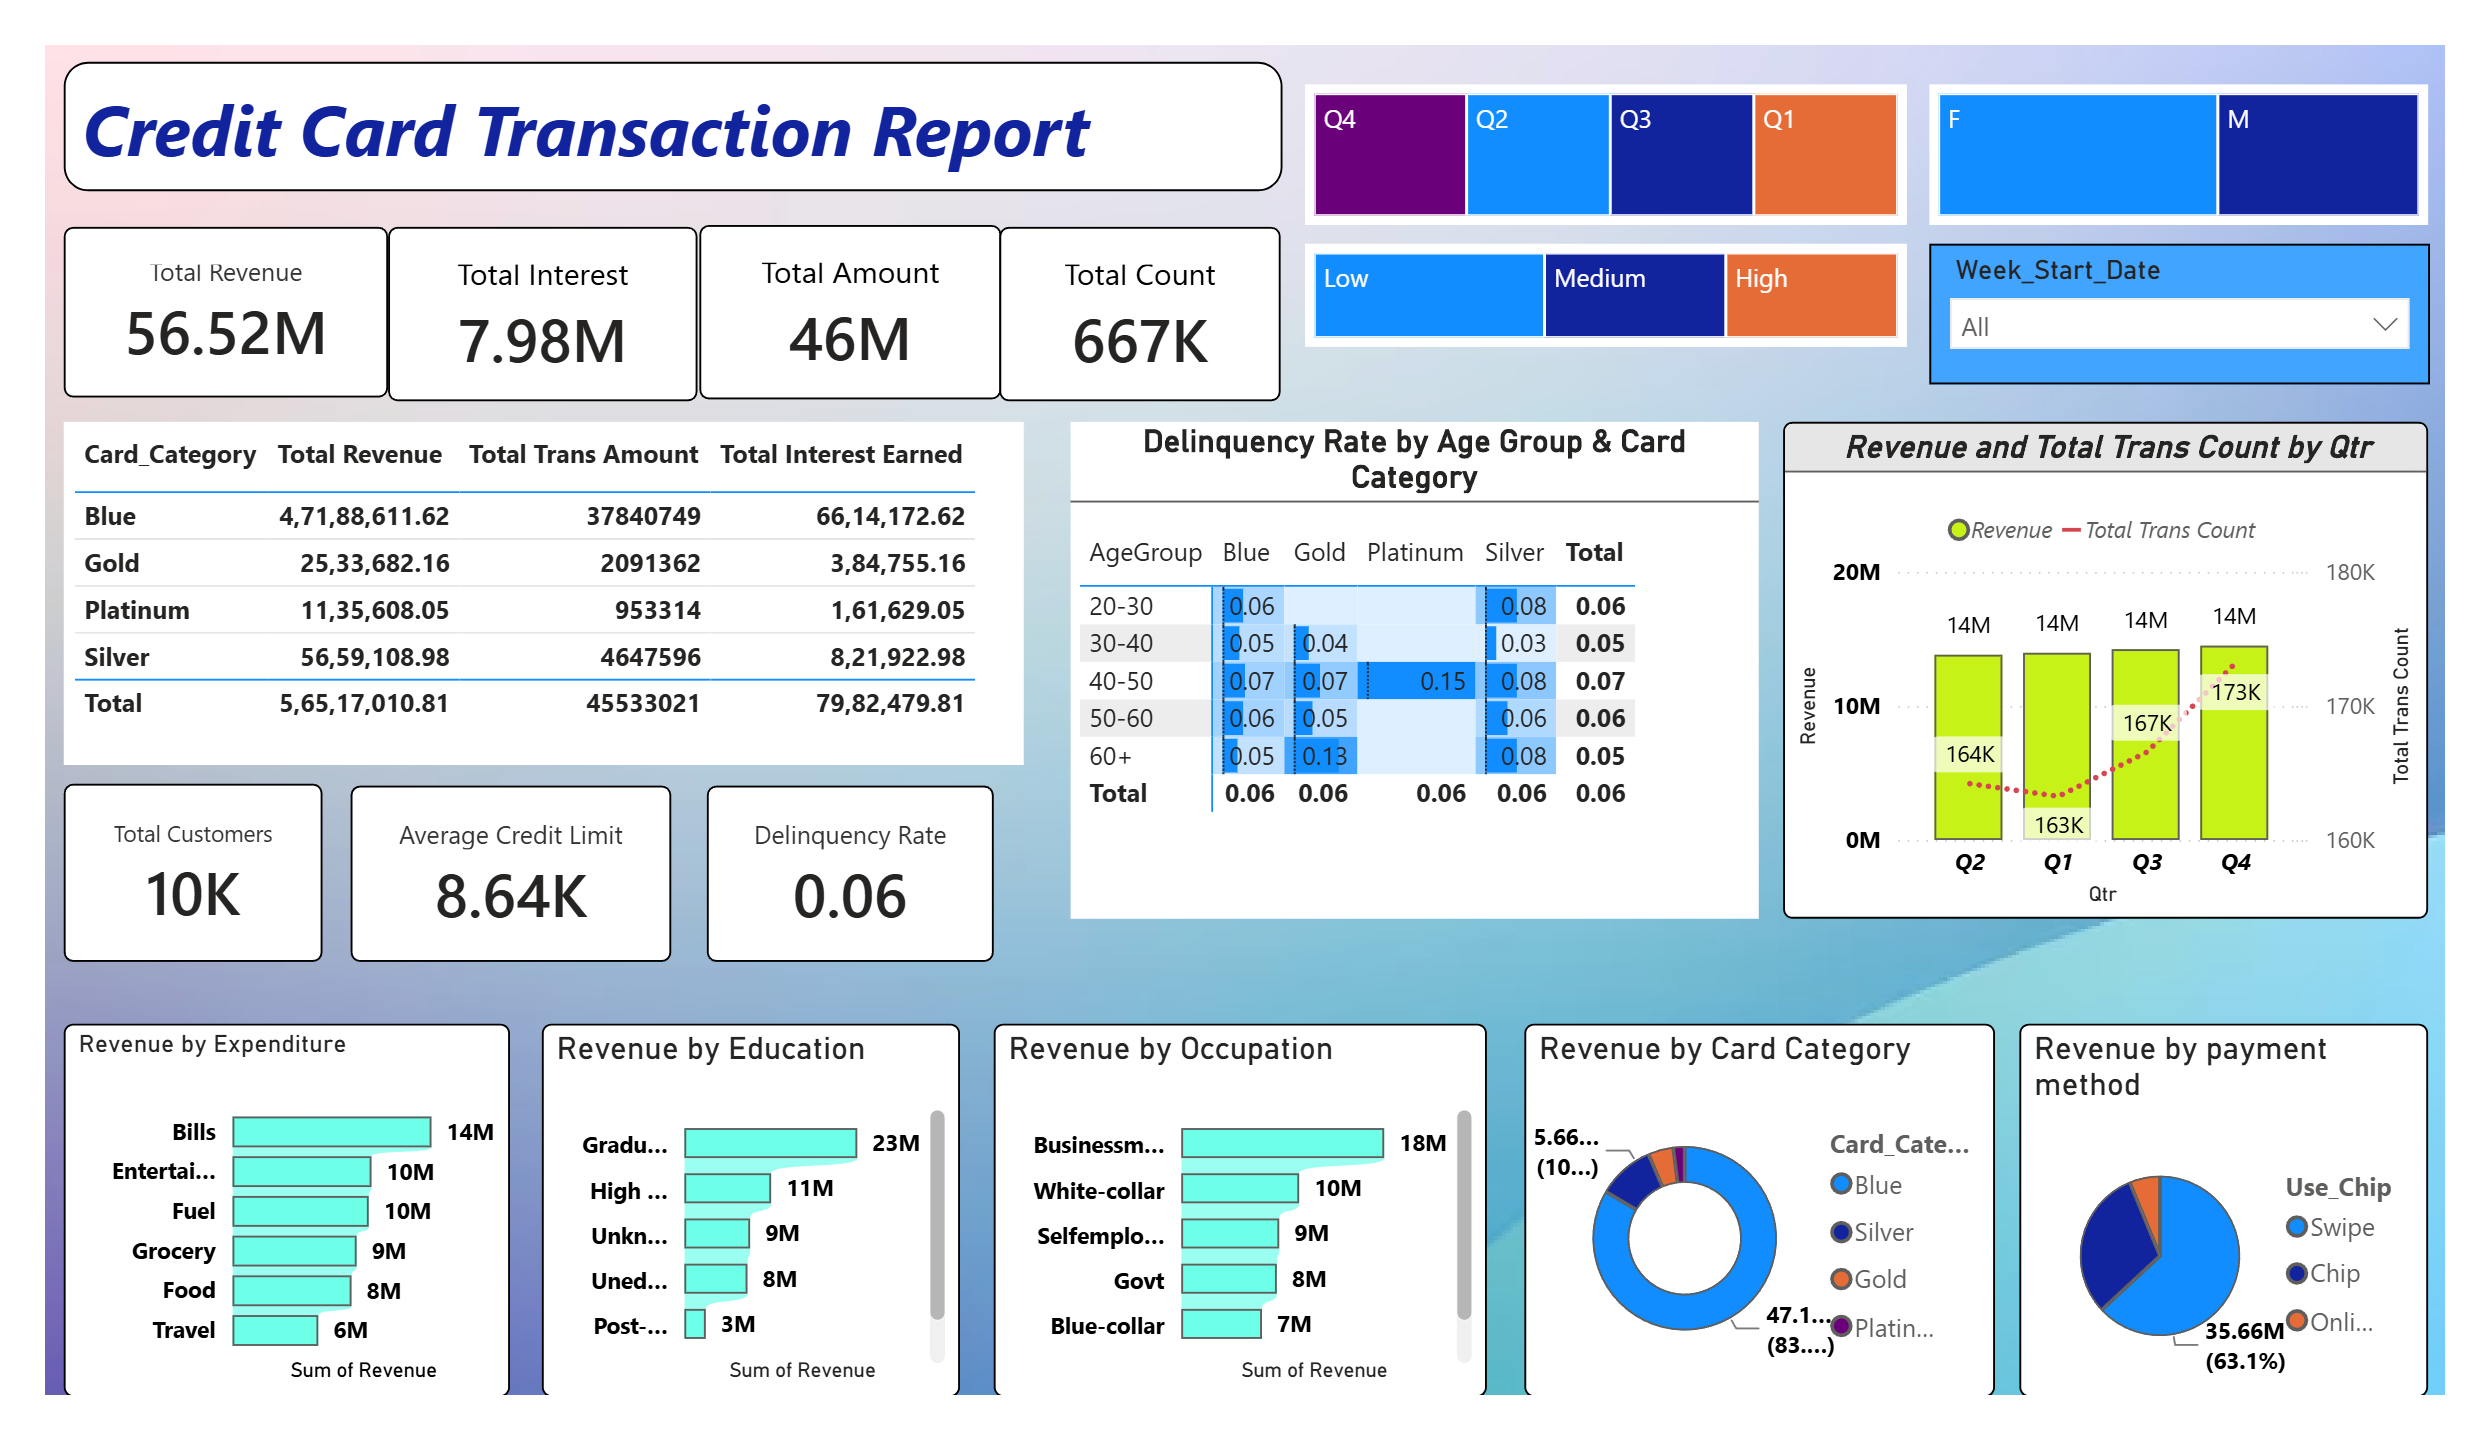

The dashboard page shown, as its layout file describes it:
{"tool":"powerbi","page":{"name":"Credit Card Transaction Report","canvas":[1280,720],"ordinal":0},"visuals":[{"type":"textbox","box":[10.1,8.8,649.6,69.5],"z":0},{"type":"lineStackedColumnComboChart","fields":{"Y":["Sum(cc_details.Revenue)"],"Category":["cc_details.Qtr"],"Y2":["Sum(cc_details.Total_Trans_Ct)"]},"box":[927.2,201.4,343.9,264.2],"z":1000},{"type":"barChart","title":"Revenue by Expenditure ","fields":{"Y":["Sum(cc_details.Revenue)"],"Category":["cc_details.Exp_Type"]},"box":[10.5,521.8,238,198.8],"z":2000},{"type":"barChart","title":"Revenue by Education ","fields":{"Y":["Sum(cc_details.Revenue)"],"Category":["cust_detail.Education_Level"]},"box":[265.5,521.8,222.3,198.8],"z":3000},{"type":"barChart","title":"Revenue by Occupation ","fields":{"Y":["Sum(cc_details.Revenue)"],"Category":["cust_detail.Customer_Job"]},"box":[506.1,521.8,262.9,198.8],"z":4000},{"type":"donutChart","title":"Revenue by Card Category","fields":{"Category":["cc_details.Card_Category"],"Y":["Sum(cc_details.Revenue)"]},"box":[788.6,521.8,251.1,198.8],"z":5000},{"type":"tableEx","fields":{"Values":["cc_details.Card_Category","Sum(cc_details.Revenue)","Sum(cc_details.Total_Trans_Amt)","Sum(cc_details.Interest_Earned)"]},"box":[10.1,200.9,511.8,183.3],"z":6000},{"type":"cardVisual","fields":{"Data":["Sum(cc_details.Revenue)"]},"box":[10.1,97.3,173,91],"z":7000},{"type":"cardVisual","fields":{"Data":["Sum(cc_details.Interest_Earned)"]},"box":[183.3,97.3,165,93],"z":8000},{"type":"cardVisual","fields":{"Data":["Sum(cc_details.Total_Trans_Amt)"]},"box":[348.8,96.1,161,93],"z":9000},{"type":"cardVisual","fields":{"Data":["Sum(cc_details.Total_Trans_Ct)"]},"box":[509.3,97.3,150,93],"z":10000},{"type":"treemap","fields":{"Group":["cc_details.Qtr"],"Values":["CountNonNull(cust_detail.Client_Num)"]},"box":[672.4,21.5,321,74.6],"z":11000},{"type":"treemap","fields":{"Group":["cust_detail.Gender"],"Values":["CountNonNull(cust_detail.Client_Num)"]},"box":[1004.7,21.5,266.7,74.6],"z":12000},{"type":"treemap","fields":{"Group":["cust_detail.Income Group"],"Values":["CountNonNull(cust_detail.Client_Num)"]},"box":[672.4,106.2,321,54.3],"z":13000},{"type":"pieChart","title":"Revenue by payment method  ","fields":{"Category":["cc_details.Use_Chip"],"Y":["Sum(cc_details.Revenue)"]},"box":[1052.7,521.8,218.4,198.8],"z":14000},{"type":"cardVisual","fields":{"Data":["cc_details.Average Credit Limit"]},"box":[163.5,394.9,171,94.2],"z":15000},{"type":"cardVisual","fields":{"Data":["cust_detail.Total Customers"]},"box":[10.1,394.3,138,94.8],"z":16000},{"type":"slicer","fields":{"Values":["cc_details.Week_Start_Date"]},"box":[1005,106.2,266.6,74.8],"z":16001},{"type":"pivotTable","title":"Delinquency Rate by Age Group & Card Category","fields":{"Rows":["cust_detail.AgeGroup"],"Columns":["cc_details.Card_Category"],"Values":["cc_details.Delinquency Rate"]},"box":[546.6,201.4,367.5,264.2],"z":16002},{"type":"cardVisual","fields":{"Data":["cc_details.Delinquency Rate"]},"box":[353.1,394.9,153,94],"z":16003}]}

Visuals, with their boxes in screenshot pixels (x1, y1, x2, y2), scaled from the page's 1280x720 canvas onto the 2490x1440 screenshot:
textbox: [x1=20, y1=18, x2=1283, y2=157]
lineStackedColumnComboChart - Sum(cc_details.Revenue) x cc_details.Qtr: [x1=1804, y1=403, x2=2473, y2=931]
"Revenue by Expenditure " barChart: [x1=20, y1=1044, x2=483, y2=1439]
"Revenue by Education " barChart: [x1=516, y1=1044, x2=949, y2=1439]
"Revenue by Occupation " barChart: [x1=985, y1=1044, x2=1496, y2=1439]
"Revenue by Card Category" donutChart: [x1=1534, y1=1044, x2=2023, y2=1439]
tableEx - cc_details.Card_Category x Sum(cc_details.Revenue): [x1=20, y1=402, x2=1015, y2=768]
cardVisual - Sum(cc_details.Revenue): [x1=20, y1=195, x2=356, y2=377]
cardVisual - Sum(cc_details.Interest_Earned): [x1=357, y1=195, x2=678, y2=381]
cardVisual - Sum(cc_details.Total_Trans_Amt): [x1=679, y1=192, x2=992, y2=378]
cardVisual - Sum(cc_details.Total_Trans_Ct): [x1=991, y1=195, x2=1283, y2=381]
treemap - cc_details.Qtr x CountNonNull(cust_detail.Client_Num): [x1=1308, y1=43, x2=1932, y2=192]
treemap - cust_detail.Gender x CountNonNull(cust_detail.Client_Num): [x1=1954, y1=43, x2=2473, y2=192]
treemap - cust_detail.Income Group x CountNonNull(cust_detail.Client_Num): [x1=1308, y1=212, x2=1932, y2=321]
"Revenue by payment method  " pieChart: [x1=2048, y1=1044, x2=2473, y2=1439]
cardVisual - cc_details.Average Credit Limit: [x1=318, y1=790, x2=651, y2=978]
cardVisual - cust_detail.Total Customers: [x1=20, y1=789, x2=288, y2=978]
slicer - cc_details.Week_Start_Date: [x1=1955, y1=212, x2=2474, y2=362]
"Delinquency Rate by Age Group & Card Category" pivotTable: [x1=1063, y1=403, x2=1778, y2=931]
cardVisual - cc_details.Delinquency Rate: [x1=687, y1=790, x2=985, y2=978]
